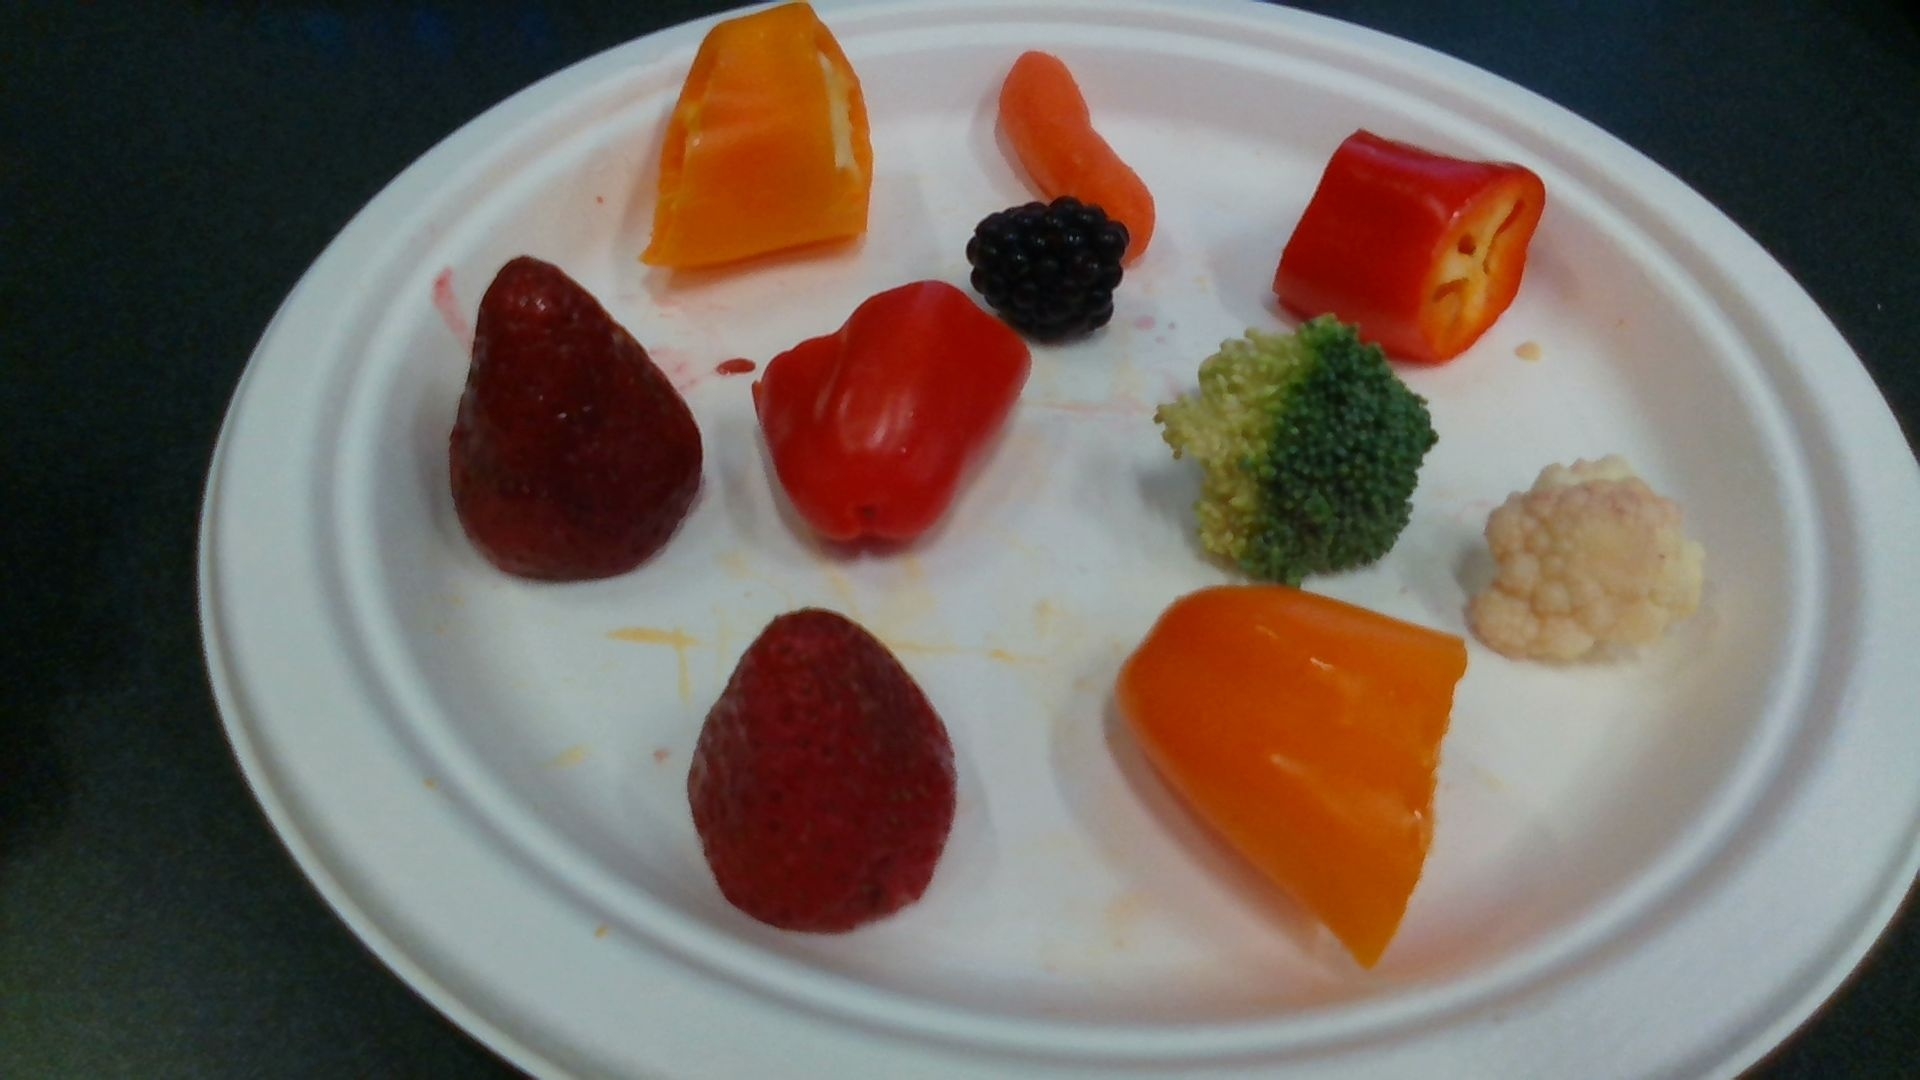bell_pepper: (1120, 585, 1464, 967), (754, 284, 1030, 538), (1276, 131, 1544, 365), (647, 7, 870, 265)
blackberry: (967, 200, 1127, 343)
broccoli: (1159, 316, 1435, 585)
carrot: (1000, 51, 1154, 260)
cauliflower: (1470, 455, 1698, 669)
strawberry: (694, 611, 957, 934), (454, 256, 702, 580)
